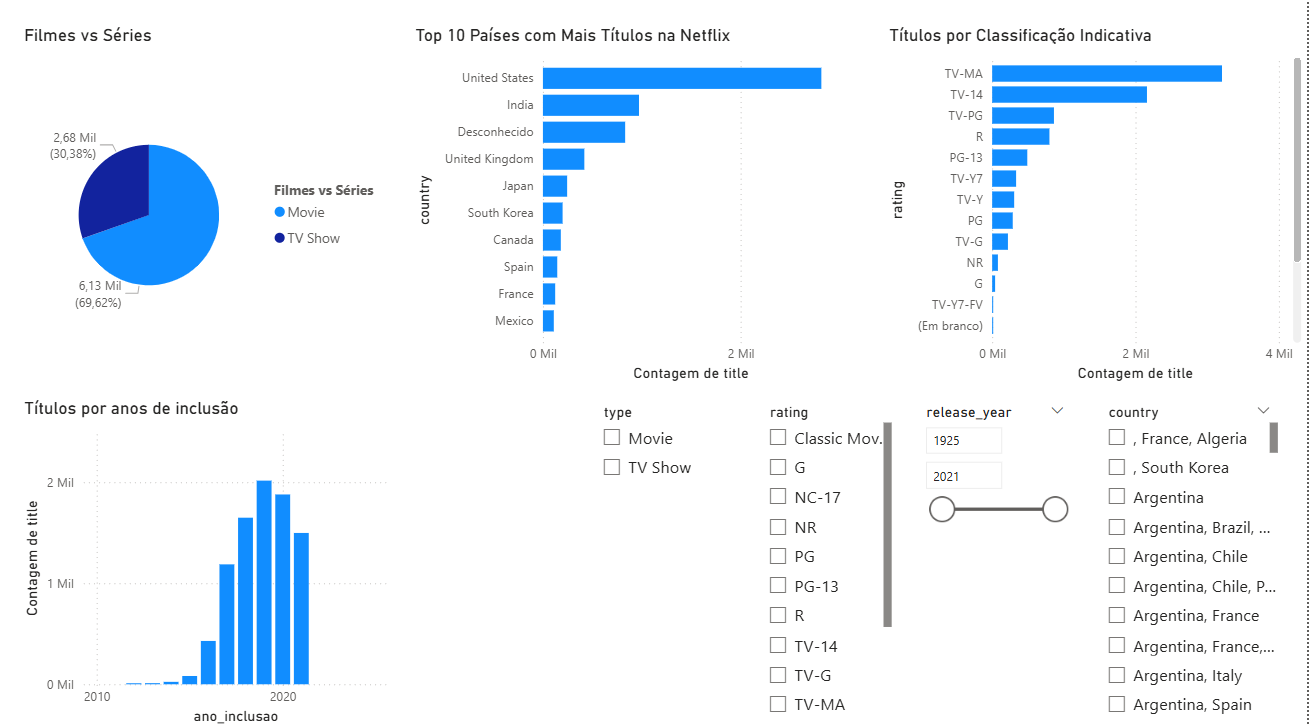

Layout of this report page (visuals, bound fields, positions):
{"tool":"powerbi","page":{"name":"Página 1","canvas":[1280,720],"ordinal":0},"visuals":[{"type":"pieChart","title":"Filmes vs Séries","fields":{"Y":["CountNonNull(netflix_titles.title)"],"Category":["netflix_titles.type"]},"box":[20.8,30.6,368.1,354.6],"z":0},{"type":"clusteredBarChart","title":"Top 10 Países com Mais Títulos na Netflix","fields":{"Category":["netflix_titles.country"],"Y":["CountNonNull(netflix_titles.title)"]},"box":[403.5,30.6,439,354.6],"z":1000},{"type":"barChart","title":"Títulos por Classificação Indicativa","fields":{"Y":["CountNonNull(netflix_titles.title)"],"Category":["netflix_titles.rating"]},"box":[867,30.6,413.3,354.6],"z":2000},{"type":"clusteredColumnChart","title":"Títulos por anos de inclusão","fields":{"Category":["netflix_titles.ano_inclusao"],"Y":["CountNonNull(netflix_titles.title)"]},"box":[20.8,396.2,368.1,324.1],"z":3000},{"type":"slicer","fields":{"Values":["netflix_titles.type"]},"box":[579.6,396.2,141.8,324.1],"z":4000},{"type":"slicer","fields":{"Values":["netflix_titles.rating"]},"box":[742.3,396.2,137,324.1],"z":5000},{"type":"slicer","fields":{"Values":["netflix_titles.release_year"]},"box":[895.1,396.2,160.2,324.1],"z":5001},{"type":"slicer","fields":{"Values":["netflix_titles.country"]},"box":[1073.6,396.2,183.4,324.1],"z":5002}]}

Visuals, with their boxes in screenshot pixels (x1, y1, x2, y2), scaled from the page's 1280x720 canvas onto the 1310x725 screenshot:
"Filmes vs Séries" pieChart: box=[21, 31, 398, 388]
"Top 10 Países com Mais Títulos na Netflix" clusteredBarChart: box=[413, 31, 862, 388]
"Títulos por Classificação Indicativa" barChart: box=[887, 31, 1309, 388]
"Títulos por anos de inclusão" clusteredColumnChart: box=[21, 399, 398, 724]
slicer - netflix_titles.type: box=[593, 399, 738, 724]
slicer - netflix_titles.rating: box=[760, 399, 900, 724]
slicer - netflix_titles.release_year: box=[916, 399, 1080, 724]
slicer - netflix_titles.country: box=[1099, 399, 1286, 724]
